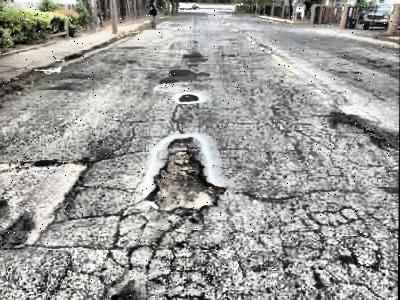pothole: (146, 136, 223, 212), (176, 91, 199, 103)
